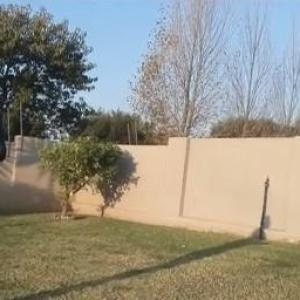follow: (0, 43, 12, 299)
